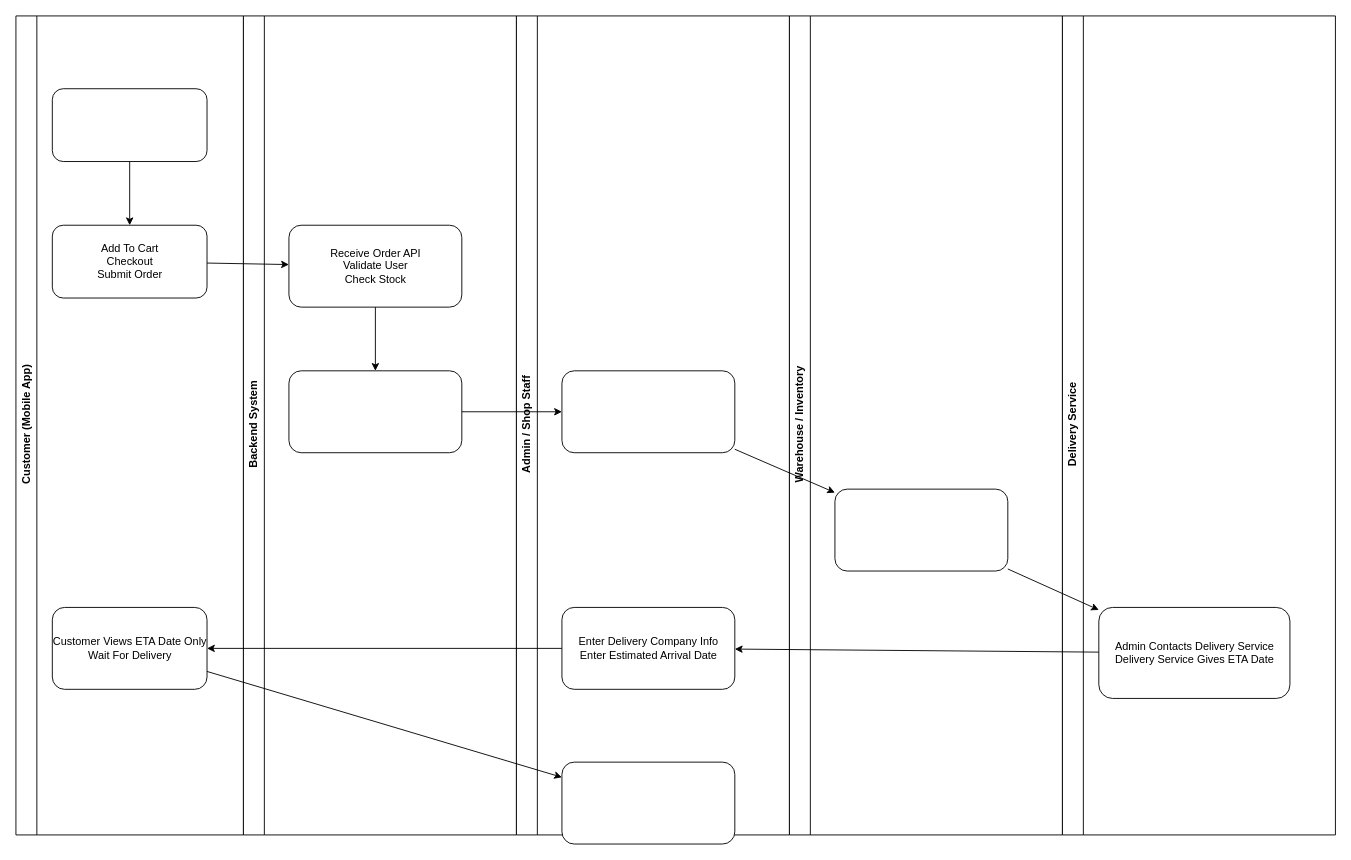
This 1351x860 diagram has some shape labels left out. Here are the shapes that lost their labels. From the top down, the centre of each, then its label:
At [129,125]: "Browse Products Search Product View Details".
At [375,411]: "Create Order Record Reserve Stock Send Notification".
At [648,411]: "Receive New Order Review Order Confirm Order".
At [921,529]: "Pick Product Pack Product Update Stock".
At [648,802]: "Admin Inquires Delivery Service Confirm Arrival Close Order".
